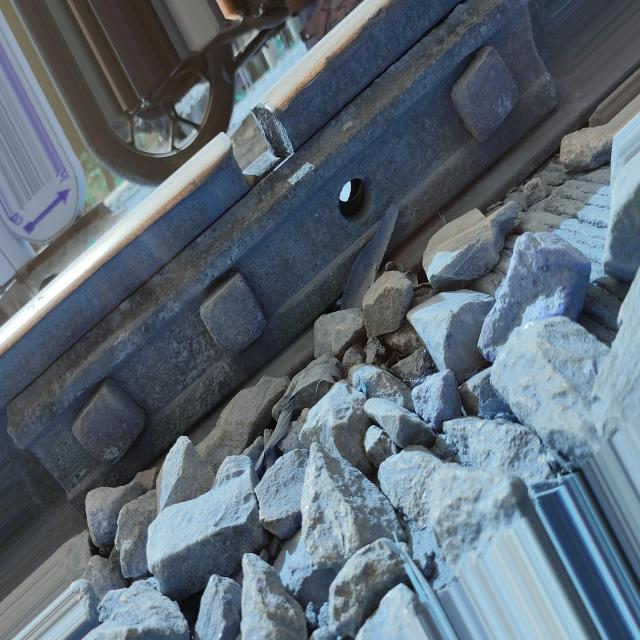Defective Joint: (3, 0, 571, 523)
